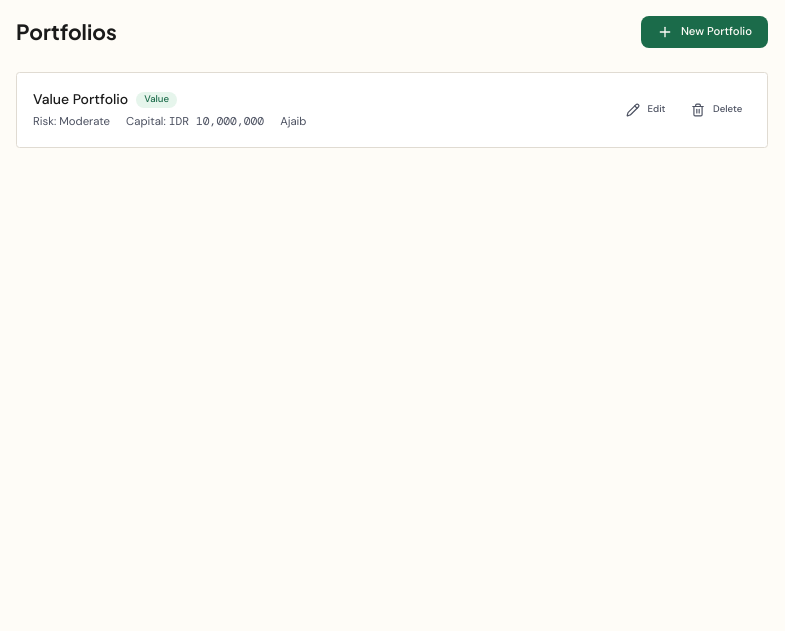
Scenario: PortfolioPage › State C: Portfolio list (portfolios exist) › navigates to edit form on Edit click
The width and height of the screenshot is (785, 631).
Expected: the text "Value Portfolio" is shown, [33,89,128,110]
Click the button "Edit": click(646, 110) [617,99,674,121]
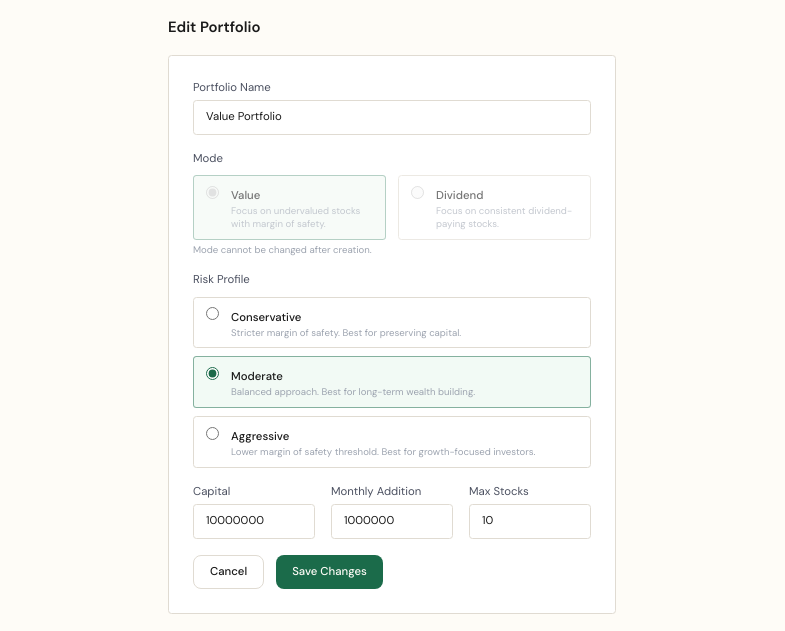
Expected: the heading "Edit Portfolio" is shown, [168,17,260,37]
Expected: the field labelled "Portfolio Name" holds "Value Portfolio", [193,100,591,135]
